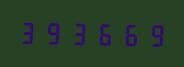nine: (138, 20, 161, 48), (41, 19, 64, 46)
six: (90, 19, 113, 47), (114, 20, 137, 47)
three: (17, 18, 40, 46), (66, 19, 89, 46)
